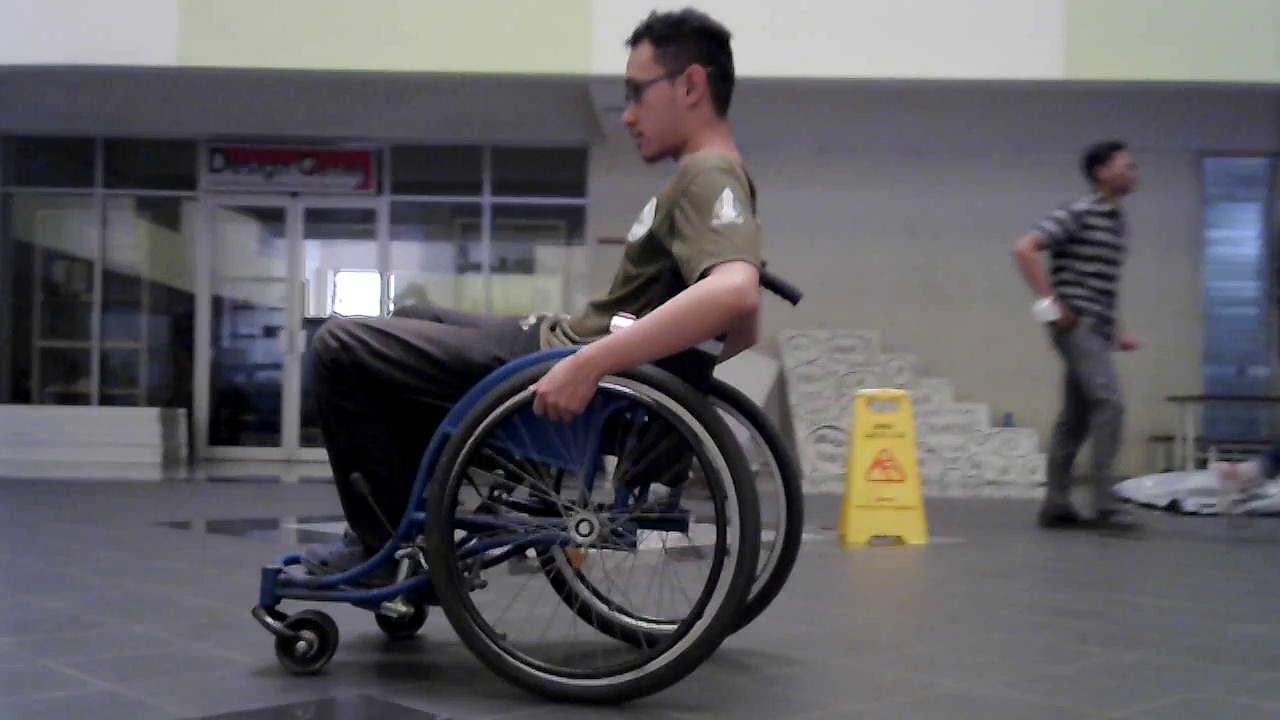person: (286, 10, 800, 595), (1010, 140, 1143, 530)
wheelchair: (229, 245, 832, 715)
